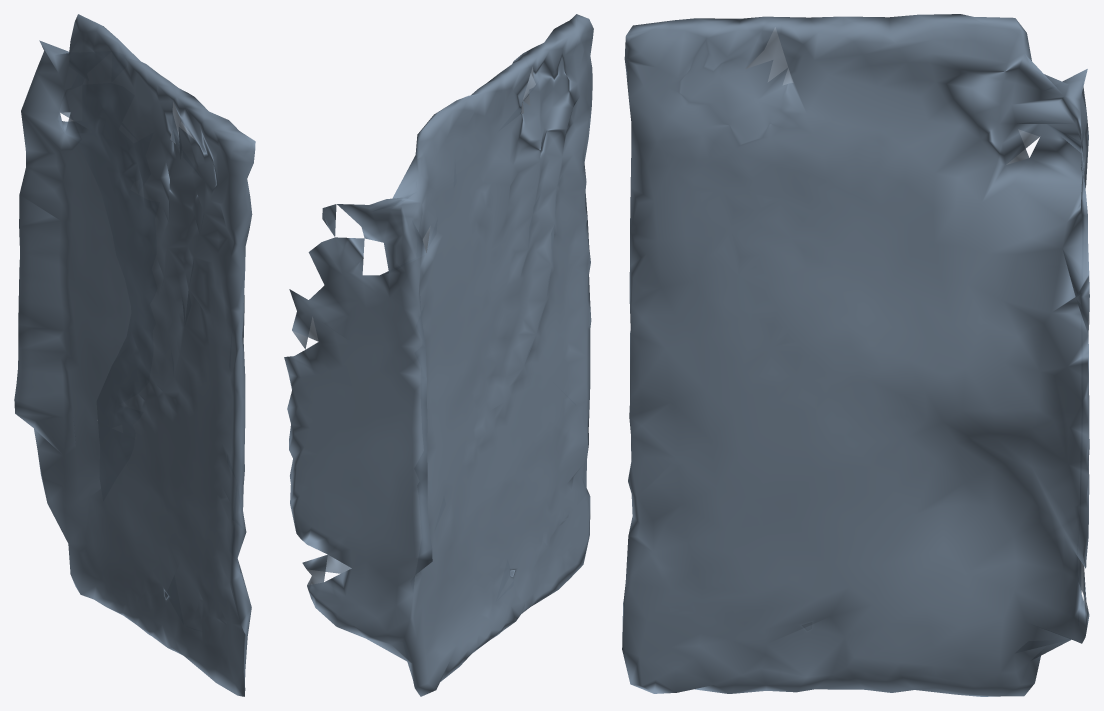
Rendered from monitor_0459_recon.obj.
The picture shows the model from 3 angles, left to right: view 1: azimuth 30°, elevation 25°; view 2: azimuth 150°, elevation 25°; view 3: azimuth 270°, elevation 25°; orthographic projection. The views are drawn at different scales.
Bounding box in the file's own units: 0.4576 × 1.71 × 1.06.
